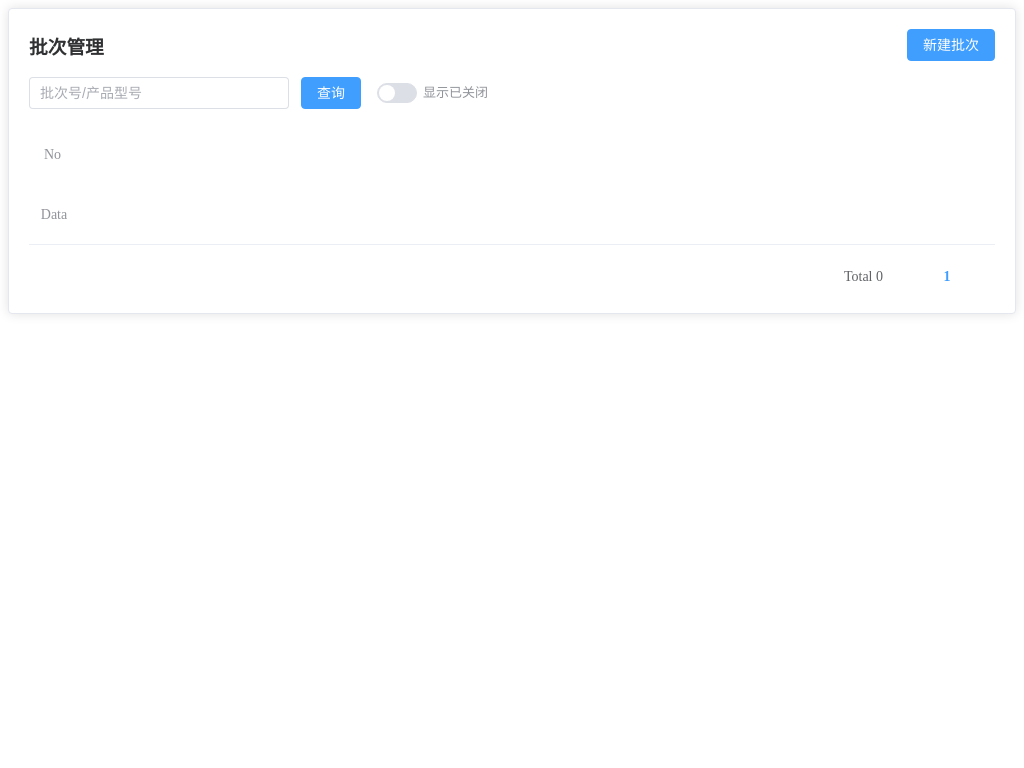
Test: BatchListPage › uses 生产班组 wording in create form
This screenshot has width=1024, height=768.
Click the button "新建批次": click(951, 45) [907,29,995,61]
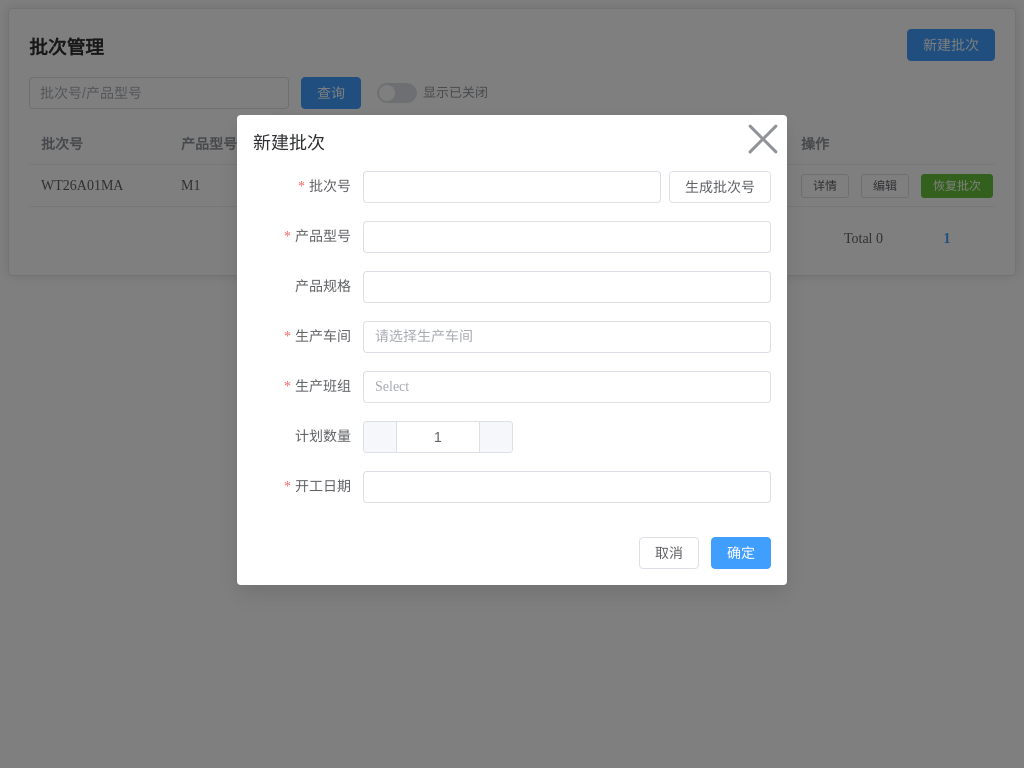
Expected: the text "生产班组" is shown, [253,371,363,403]
